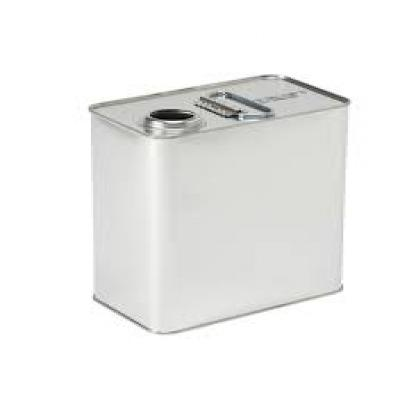METAL: (86, 71, 348, 331)
